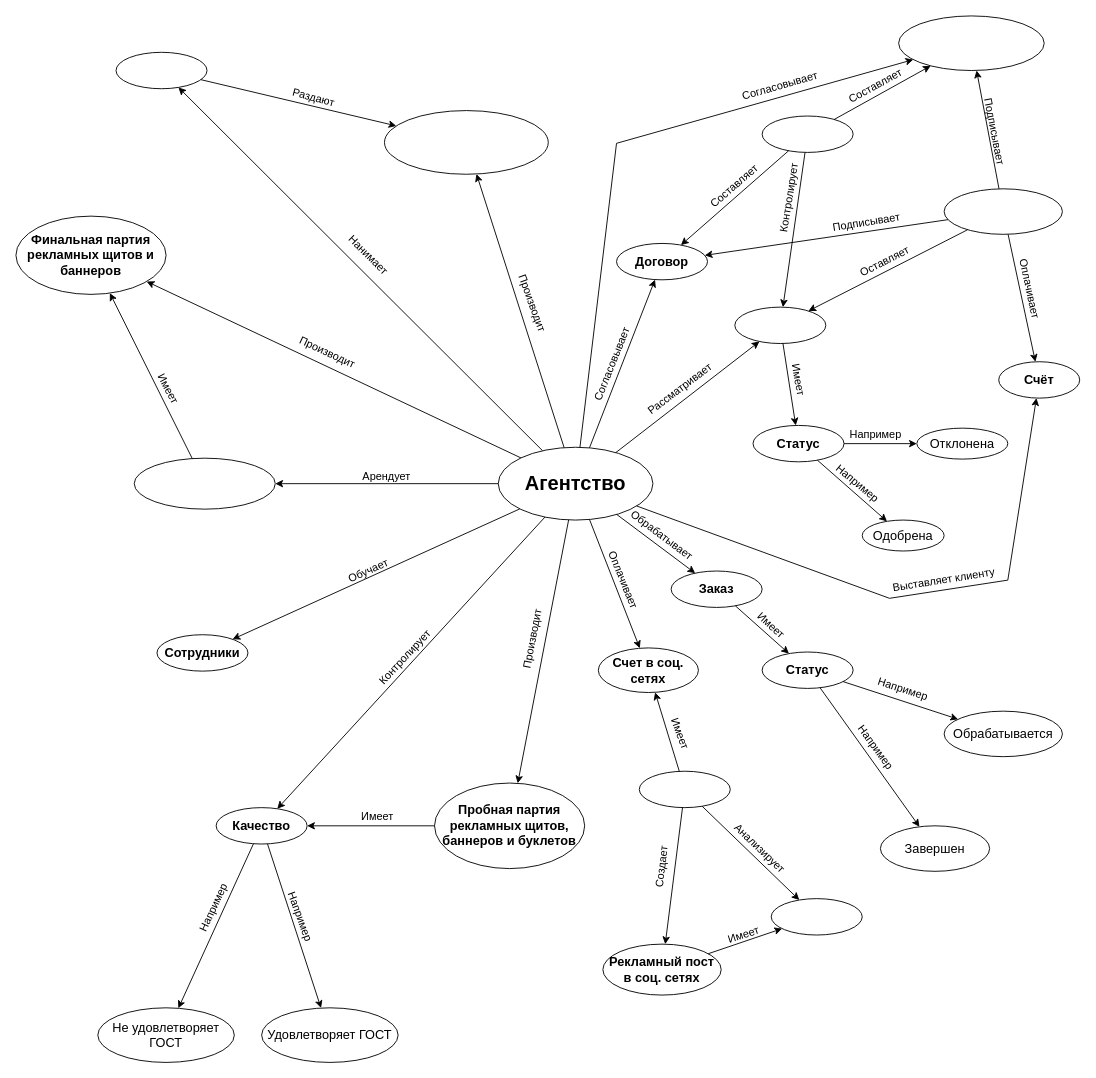
This 1096x1078 diagram has some shape labels left out. Each missing label, with the centre of its shape:
"Дополнительное соглашение к договору" belongs at pixel 971 43.
"Заявка" belongs at pixel 780 325.
"Клиент" belongs at pixel 1002 211.
"Место под щиты и баннеры" belongs at pixel 204 483.
"Промоутер" belongs at pixel 684 789.
"Статистика" belongs at pixel 816 916.
"Студенты" belongs at pixel 161 70.
"Финальная партия рекламных буклетов" belongs at pixel 466 142.
"Юрист" belongs at pixel 807 133.
